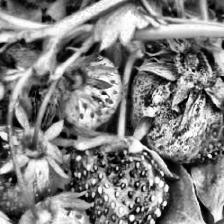Anthracnose Fruit Rot: (131, 50, 224, 163), (67, 137, 170, 224)
